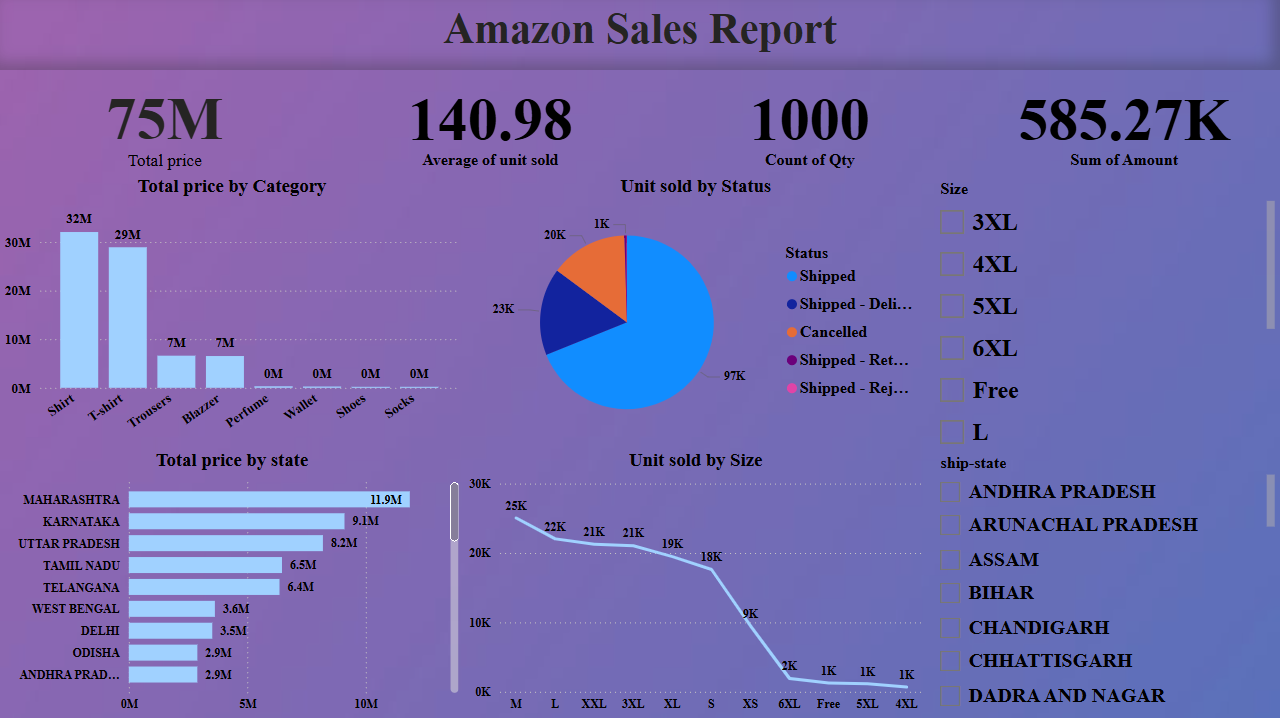

The dashboard page shown, as its layout file describes it:
{"tool":"powerbi","page":{"name":"Page 1","canvas":[1280,720],"ordinal":0},"visuals":[{"type":"textbox","box":[0,0,1280,71.2],"z":0},{"type":"columnChart","title":"Total price by Category","fields":{"Y":["Sum(Amazon Sale Report.totla price)"],"Category":["Amazon Sale Report.Category"]},"box":[0,176.2,463.8,273.8],"z":1000},{"type":"clusteredBarChart","title":"Total price by state","fields":{"Y":["Sum(Amazon Sale Report.totla price)"],"Category":["Amazon Sale Report.ship-state"]},"box":[0,450,463.8,270],"z":2000},{"type":"pieChart","title":"Unit sold by Status","fields":{"Category":["Amazon Sale Report.Status"],"Y":["Sum(Amazon Sale Report.unit sold)"]},"box":[463.8,176.2,463.8,273.8],"z":3000},{"type":"slicer","fields":{"Values":["Amazon Sale Report.Size"]},"box":[927.5,176.2,352.5,273.8],"z":4000},{"type":"lineChart","title":"Unit sold by Size","fields":{"Category":["Amazon Sale Report.Size"],"Y":["Sum(Amazon Sale Report.unit sold)"]},"box":[463.8,450,463.8,270],"z":5000},{"type":"slicer","fields":{"Values":["Amazon Sale Report.ship-state"]},"box":[927.5,450,352.5,270],"z":6000},{"type":"card","fields":{"Values":["Sum(Amazon Sale Report.totla price)"]},"box":[0,71.2,330,105],"z":7000},{"type":"card","fields":{"Values":["Avg(Amazon Sale Report.unit sold)"]},"box":[330,71.2,321.2,105],"z":8000},{"type":"card","fields":{"Values":["CountNonNull(Amazon Sale Report.Qty)"]},"box":[651.2,71.2,317.5,105],"z":9000},{"type":"card","fields":{"Values":["Sum(Amazon Sale Report.Amount)"]},"box":[968.8,71.2,311.2,105],"z":10000}]}

Visuals, with their boxes in screenshot pixels (x1, y1, x2, y2), scaled from the page's 1280x720 canvas onto the 1280x718 screenshot:
textbox: [0, 0, 1279, 71]
"Total price by Category" columnChart: [0, 176, 464, 449]
"Total price by state" clusteredBarChart: [0, 449, 464, 717]
"Unit sold by Status" pieChart: [464, 176, 928, 449]
slicer - Amazon Sale Report.Size: [928, 176, 1279, 449]
"Unit sold by Size" lineChart: [464, 449, 928, 717]
slicer - Amazon Sale Report.ship-state: [928, 449, 1279, 717]
card - Sum(Amazon Sale Report.totla price): [0, 71, 330, 176]
card - Avg(Amazon Sale Report.unit sold): [330, 71, 651, 176]
card - CountNonNull(Amazon Sale Report.Qty): [651, 71, 969, 176]
card - Sum(Amazon Sale Report.Amount): [969, 71, 1279, 176]
